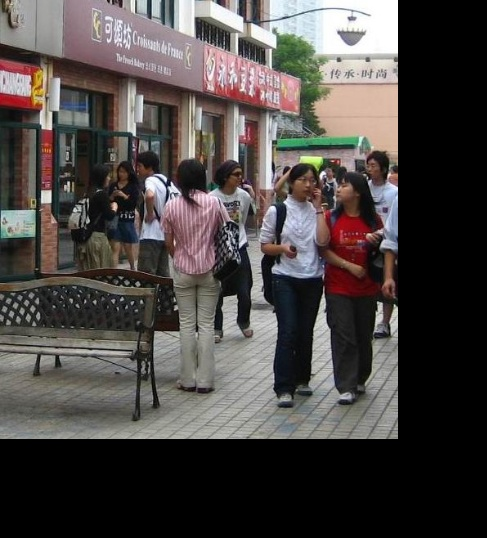person: (256, 152, 322, 413), (167, 160, 228, 395), (327, 164, 376, 412), (74, 161, 114, 283), (112, 159, 139, 262)
